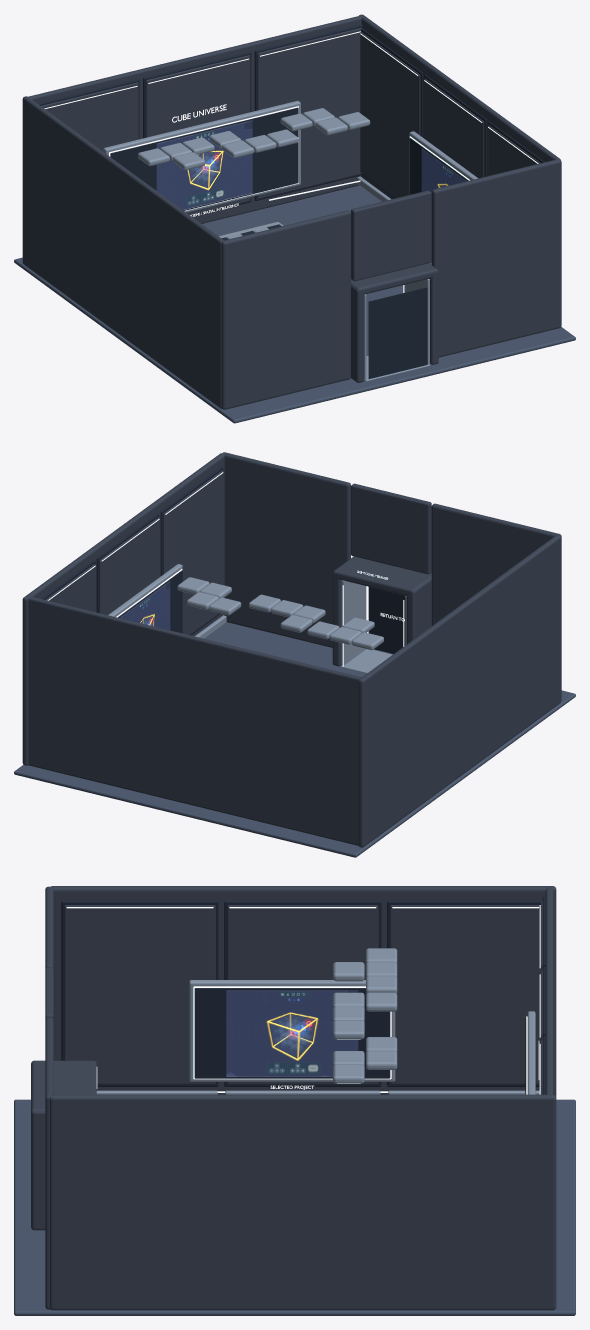
Rendered from engine.glb.
3 renders of one model, top to bottom at view 1: azimuth 30°, elevation 25°; view 2: azimuth 150°, elevation 25°; view 3: azimuth 270°, elevation 25°, orthographic. The views are drawn at different scales.
Parts seen in each view (by area): view 1: V14 engine / V14 engine / shell.004 finish, V14 engine / Lateral hull.008, V14 engine / Rear hull wing.008, V14 engine / Rear hull wing.009, V14 engine / Continuous satin deck.004, V14 engine / V14 engine / dark.004 finish, V14 engine / V14 engine / metal.004 finish, V14 engine / Front hull.004, V14 engine / Original artwork / cube-product.012, V14 engine / Return aperture.004, V14 engine / Lateral hull.009, V14 engine / Original artwork / cube-product.014 (+2 smaller); view 2: V14 engine / Front hull.004, V14 engine / Lateral hull.008, V14 engine / V14 engine / shell.004 finish, V14 engine / Rear hull wing.009, V14 engine / Continuous satin deck.004, V14 engine / Rear hull wing.008, V14 engine / V14 engine / metal.004 finish, V14 engine / Lateral hull.009, V14 engine / V14 engine / dark.004 finish, V14 engine / Return aperture.004, V14 engine / Original artwork / cube-product.014; view 3: V14 engine / Lateral hull.009, V14 engine / V14 engine / shell.004 finish, V14 engine / Continuous satin deck.004, V14 engine / Lateral hull.008, V14 engine / V14 engine / metal.004 finish, V14 engine / V14 engine / dark.004 finish, V14 engine / Original artwork / cube-product.013, V14 engine / Front hull.004, V14 engine / Rear hull wing.009, V14 engine / V14 engine / white.004 finish, V14 engine / V14 engine / accent.004 finish, V14 engine / Rear hull wing.008.
Part boxes in pixels (x1,y1,x2,y2): V14 engine / V14 engine / shell.004 finish: [41, 28, 540, 382]; V14 engine / Lateral hull.008: [22, 96, 223, 408]; V14 engine / Rear hull wing.008: [221, 210, 350, 409]; V14 engine / Rear hull wing.009: [431, 159, 561, 357]; V14 engine / Continuous satin deck.004: [14, 185, 575, 423]; V14 engine / V14 engine / dark.004 finish: [38, 24, 544, 240]; V14 engine / V14 engine / metal.004 finish: [103, 100, 478, 381]; V14 engine / Front hull.004: [28, 15, 362, 223]; V14 engine / Original artwork / cube-product.012: [156, 120, 252, 209]; V14 engine / Return aperture.004: [368, 287, 427, 378]; V14 engine / Lateral hull.009: [359, 14, 560, 199]; V14 engine / Original artwork / cube-product.014: [421, 148, 466, 192]; V14 engine / Front hull.004: [27, 596, 362, 845]; V14 engine / Lateral hull.008: [358, 535, 560, 847]; V14 engine / V14 engine / shell.004 finish: [46, 470, 431, 666]; V14 engine / Rear hull wing.009: [222, 452, 350, 647]; V14 engine / Continuous satin deck.004: [14, 622, 575, 857]; V14 engine / Rear hull wing.008: [431, 503, 561, 700]; V14 engine / V14 engine / metal.004 finish: [108, 564, 406, 673]; V14 engine / Lateral hull.009: [22, 453, 224, 765]; V14 engine / V14 engine / dark.004 finish: [41, 466, 223, 635]; V14 engine / Return aperture.004: [368, 587, 405, 653]; V14 engine / Original artwork / cube-product.014: [120, 581, 170, 630]; V14 engine / Lateral hull.009: [50, 1094, 556, 1310]; V14 engine / V14 engine / shell.004 finish: [31, 901, 542, 1230]; V14 engine / Continuous satin deck.004: [14, 1099, 575, 1315]; V14 engine / Lateral hull.008: [51, 886, 556, 1096]; V14 engine / V14 engine / metal.004 finish: [96, 948, 539, 1094]; V14 engine / V14 engine / dark.004 finish: [61, 897, 545, 1094]; V14 engine / Original artwork / cube-product.013: [226, 990, 358, 1076]; V14 engine / Front hull.004: [545, 887, 553, 1094]; V14 engine / Rear hull wing.009: [45, 1017, 53, 1309]; V14 engine / V14 engine / white.004 finish: [66, 905, 540, 1094]; V14 engine / V14 engine / accent.004 finish: [193, 986, 527, 1094]; V14 engine / Rear hull wing.008: [45, 886, 53, 968].
Size of the model in its own units: 19.2 by 9.2 by 21.4.
10 materials, 3 textured.
